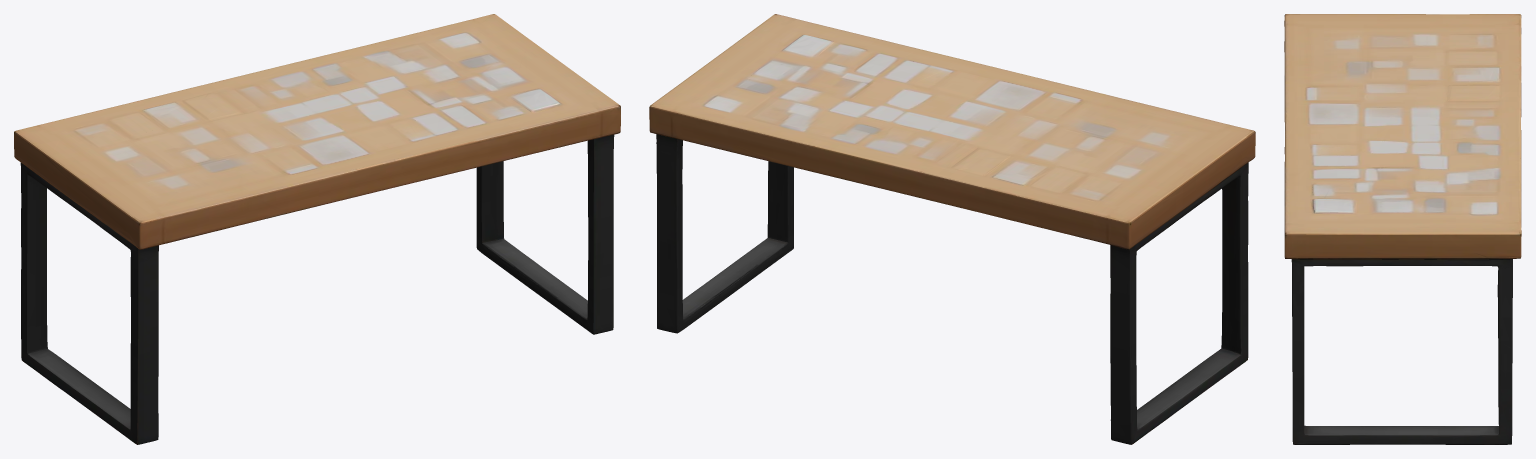
The picture shows the model from 3 angles, left to right: view 1: azimuth 30°, elevation 25°; view 2: azimuth 150°, elevation 25°; view 3: azimuth 270°, elevation 25°; orthographic projection. The views are drawn at different scales.
Visible parts, largest first — view 1: geometry_0; view 2: geometry_0; view 3: geometry_0.
Part boxes in pixels (box(x1,y1,x2,y2)): geometry_0: box(14, 14, 620, 444); geometry_0: box(649, 14, 1255, 444); geometry_0: box(1284, 14, 1521, 444).
Size of the model in its own units: 1 by 0.4544 by 0.4552.
Materials: 1 (1 with a texture image).
